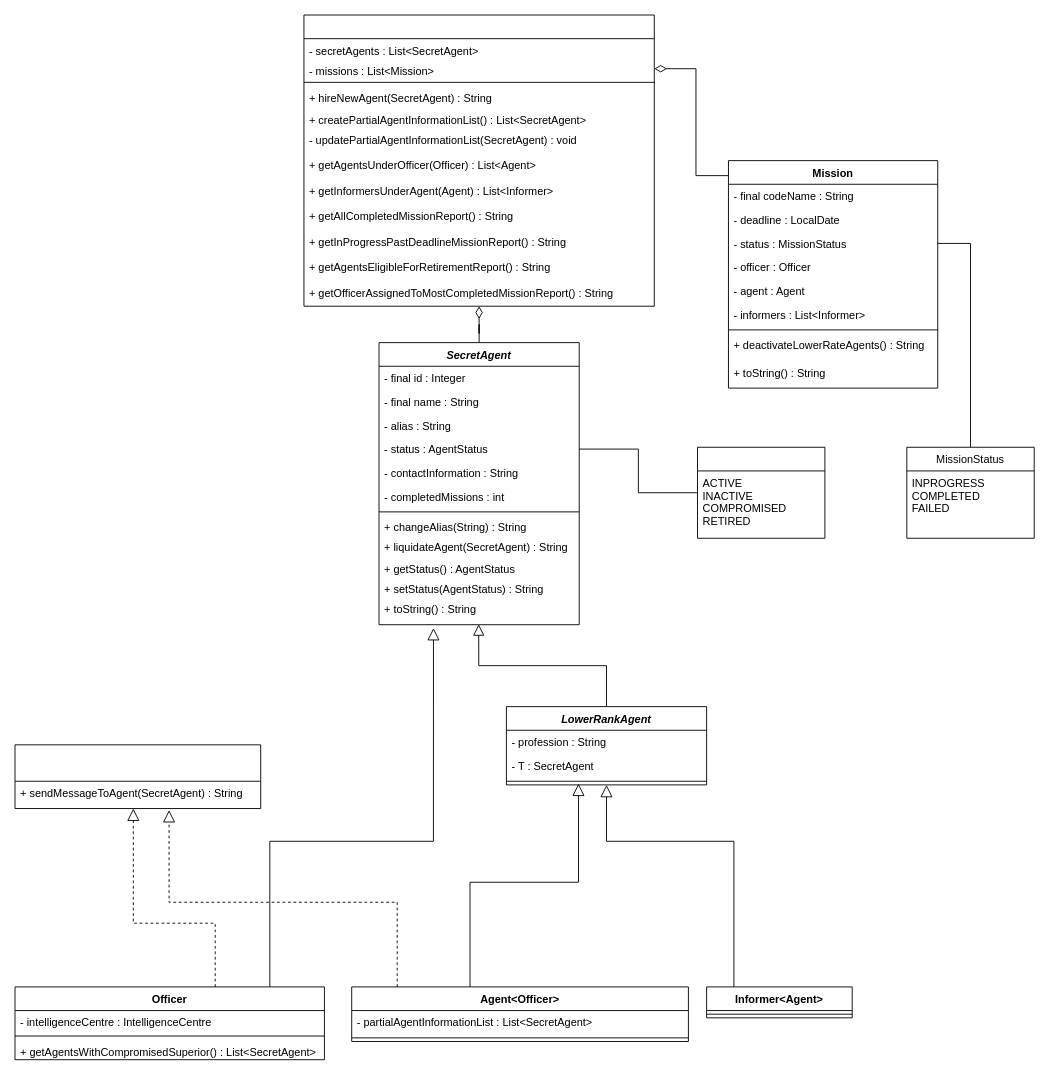
This 1049x1075 diagram has some shape labels left out. Here are the shapes that lost their labels. From the top down, the box of each, then its label:
(303, 14, 654, 306): IntelligenceCentre
(697, 446, 825, 538): AgentStatus
(14, 744, 261, 809): «interface» HigherRankAgent
